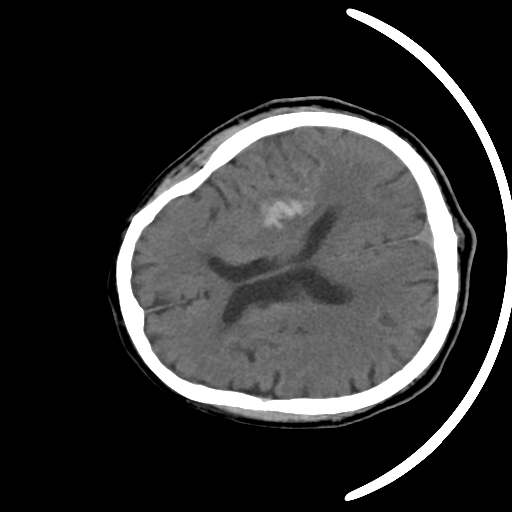a: (241, 176, 339, 249)
